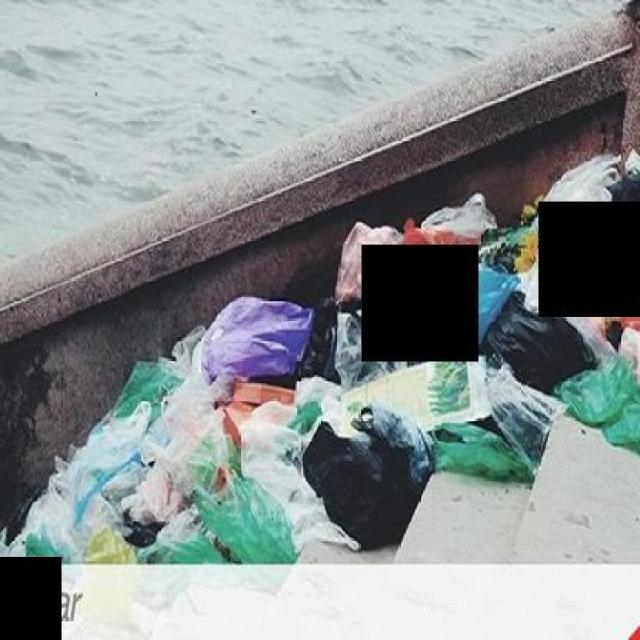plastic bag: (1, 43, 640, 566), (358, 166, 638, 492), (491, 142, 634, 363), (300, 400, 449, 546), (423, 195, 495, 271)
